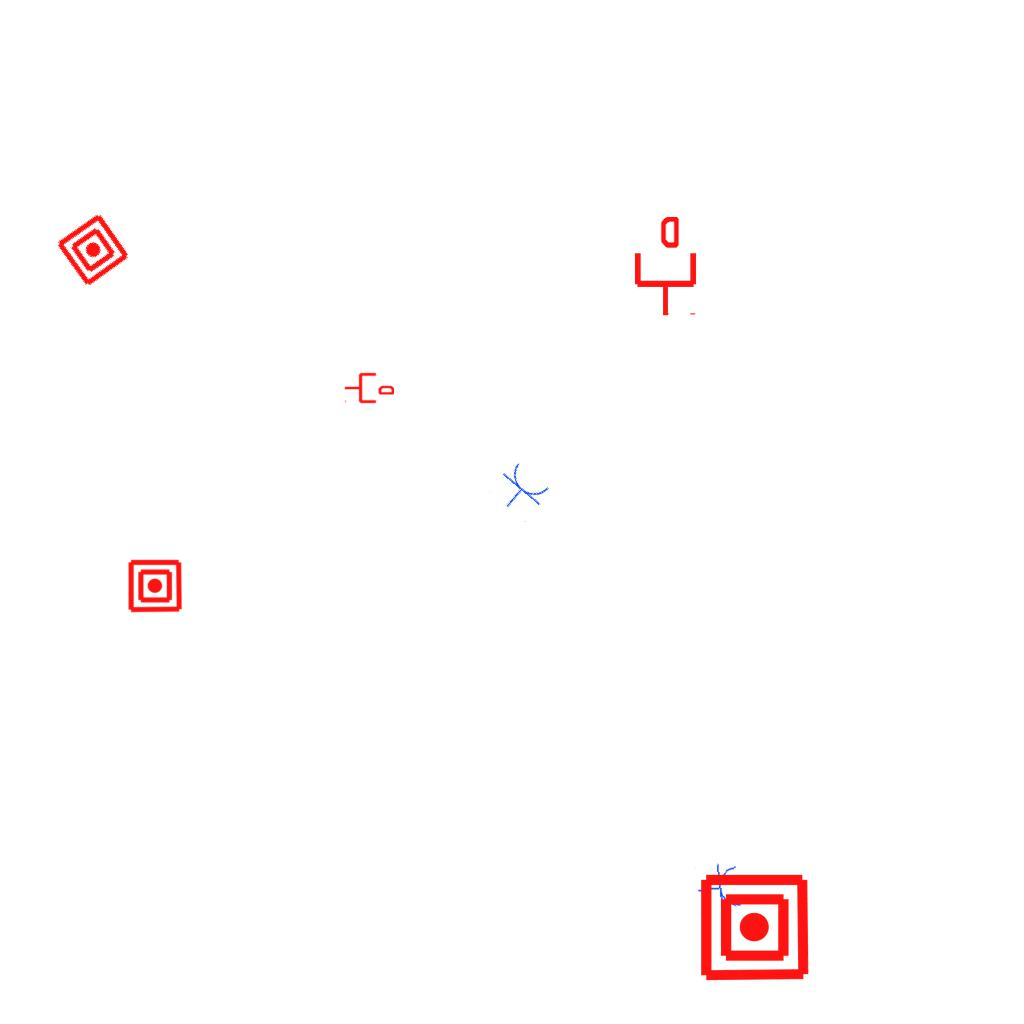Datenanschluss_einfach: (631, 217, 700, 317), (344, 371, 394, 405)
NAM-Nichtautomatischer_Melder: (698, 871, 811, 984), (54, 211, 132, 289), (127, 558, 183, 614)
Schukosteckdose_einfach: (488, 457, 554, 524), (694, 861, 744, 916)
